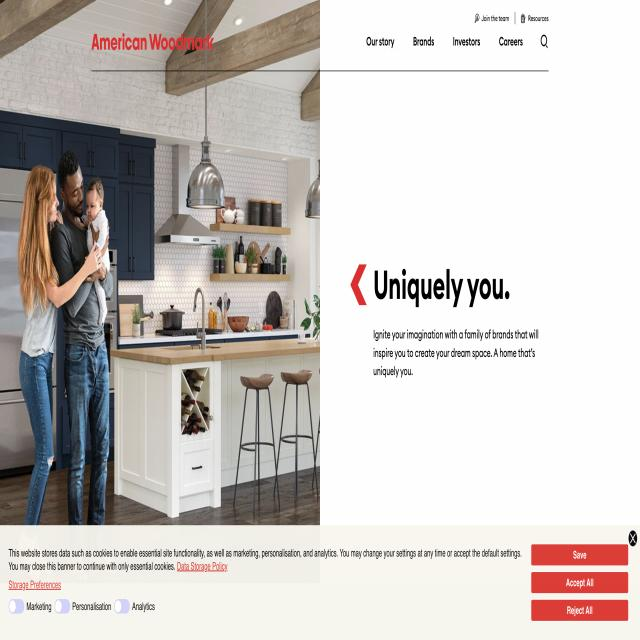Logo: (84, 20, 212, 58)
Navigation: (342, 24, 554, 57)
